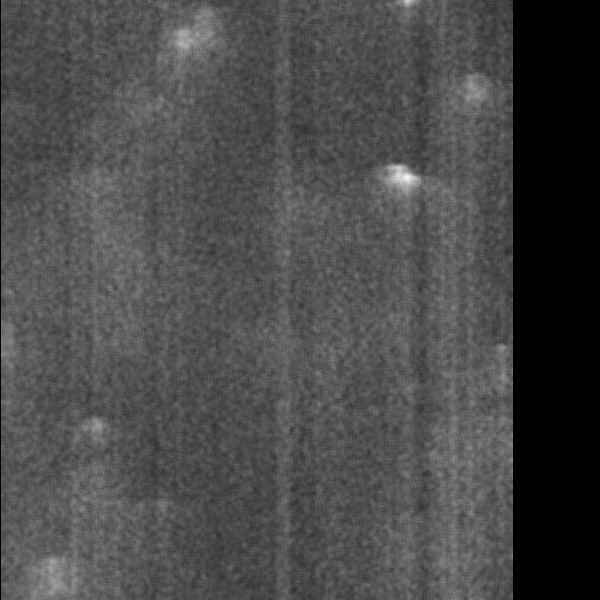spark: (161, 19, 216, 104), (90, 158, 116, 294), (380, 158, 426, 225), (34, 550, 74, 598), (79, 415, 116, 459), (454, 73, 485, 123)
